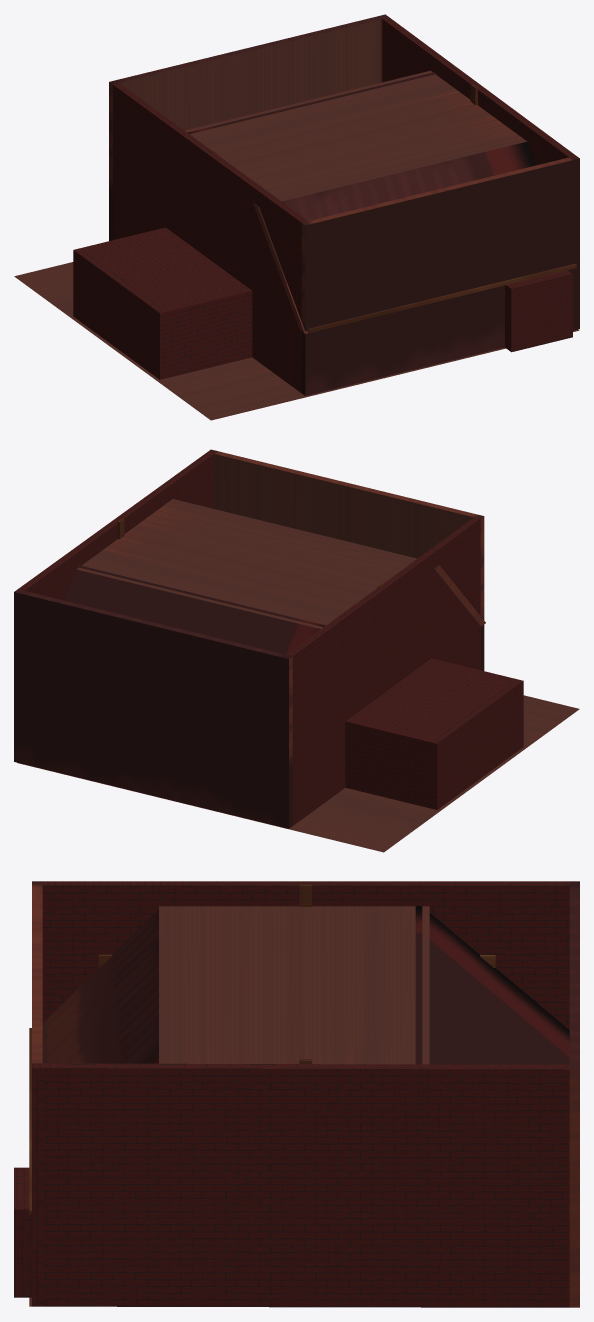
The model's file is room_mod.fbx.
3 views of the same model, one above another, from view 1: azimuth 30°, elevation 25°; view 2: azimuth 150°, elevation 25°; view 3: azimuth 270°, elevation 25° (orthographic). The views are drawn at different scales.
Parts seen in each view (by area): view 1: Plane.002, Plane, потолок, вход_стены, Plane.001, пол, Cube.005, Cube.007, 2єт, Cube.006; view 2: Plane.001, Plane, потолок, вход_стены, Plane.002, Cube.006, пол, Cube.005; view 3: Plane, потолок, Cube.006, Cube.005, Plane.001, Cube.007, Plane.002, 2єт.
Part boxes in pixels (x1,y1,x2,y2): Plane.002: (301,157,579,395); Plane: (113,17,579,392); потолок: (185,70,526,201); вход_стены: (73,227,252,379); Plane.001: (109,14,388,240); пол: (14,262,579,420); Cube.005: (253,141,576,333); Cube.007: (505,270,572,352); 2єт: (307,263,576,333); Cube.006: (187,72,436,134); Plane.001: (14,589,292,828); Plane: (18,449,480,825); потолок: (76,499,416,628); вход_стены: (345,658,523,809); Plane.002: (214,451,484,670); Cube.006: (64,565,325,654); пол: (17,695,579,852); Cube.005: (434,565,485,626); Plane: (32,881,569,1307); потолок: (159,906,429,1064); Cube.006: (415,906,569,1064); Cube.005: (30,909,158,1216); Plane.001: (569,881,579,1307); Cube.007: (14,1167,31,1297); Plane.002: (32,881,42,1063); 2єт: (29,1028,31,1215).
Bounding box in the file's own units: 7473 × 3335 × 7059.
6 materials, 6 textured.
